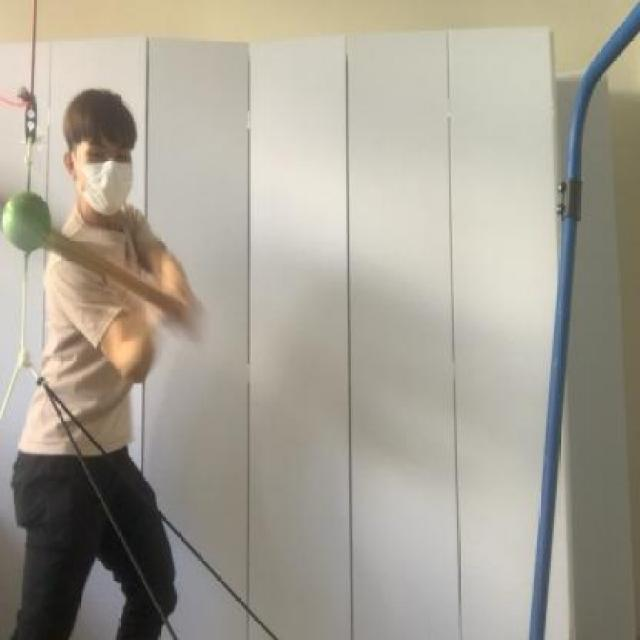baseball: (0, 179, 54, 266)
